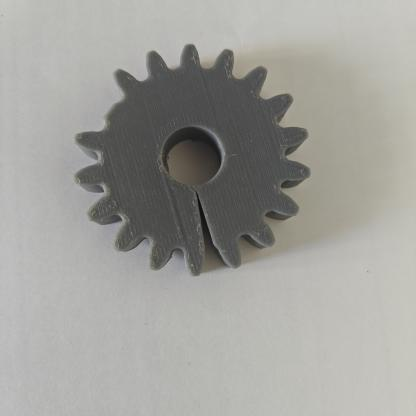defect: (169, 182, 241, 271), (71, 67, 144, 154)
gear: (50, 38, 346, 293)
